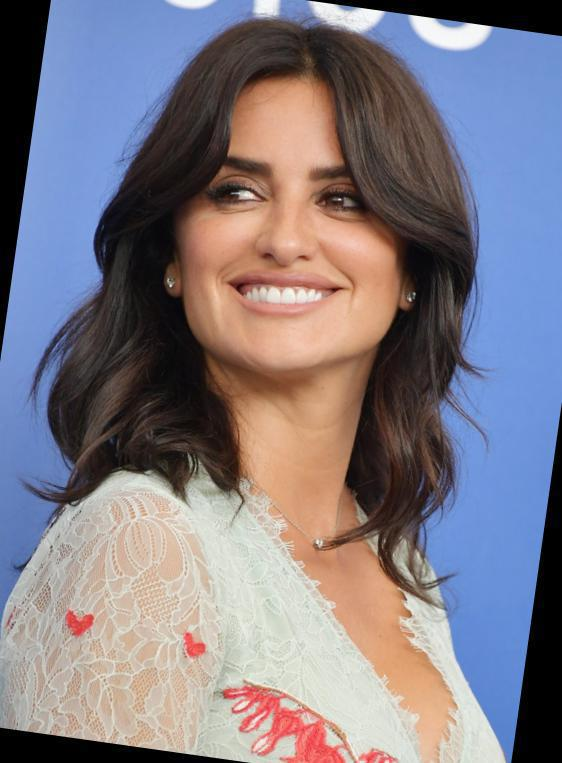Sober: (187, 74, 395, 339)
